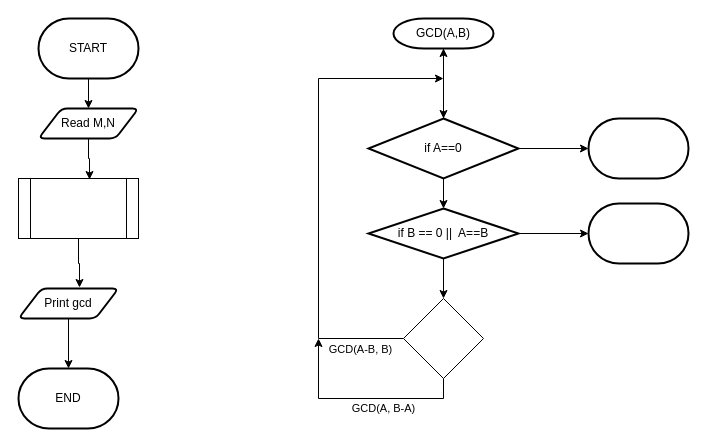
Image size: 706x446. Some labels were removed from this diagram. Here are the shapes that lost their labels. From the top down, the centre of each, then its label:
At [638,148]: "return B".
At [78,208]: "Call Sub programme Let gcd= GCD(M,N)".
At [638,233]: "return A".
At [443,338]: "if A > B".
